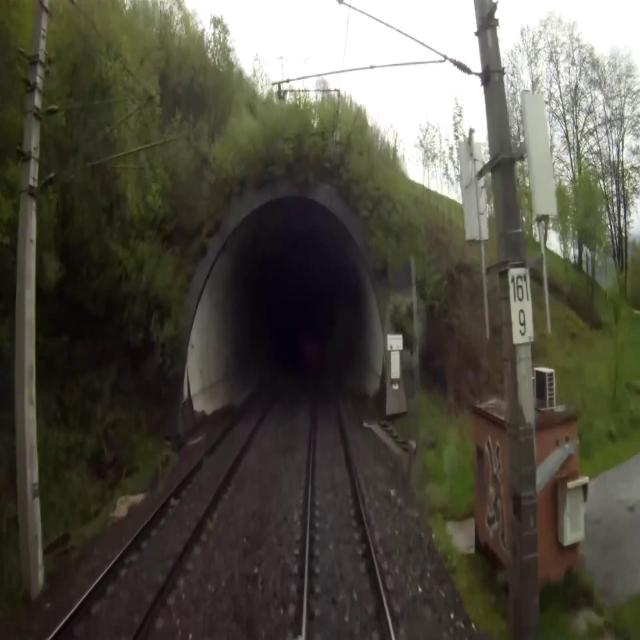rail-track: (54, 376, 281, 639), (307, 390, 390, 639)
